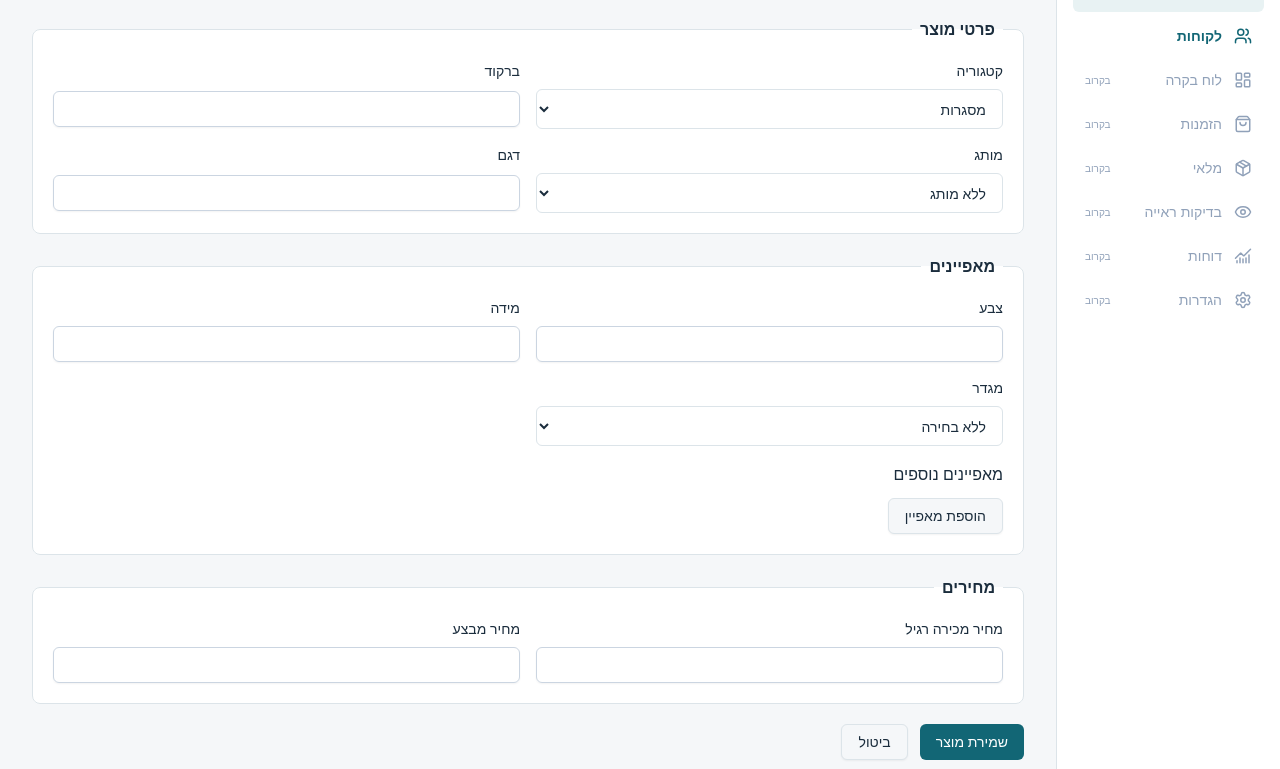
Test: blocks a higher promo and removes VAT from /products/new
The width and height of the screenshot is (1280, 769).
(page scrolled)
Type "100" into the number field labelled "מחיר מכירה רגיל" at [770, 665], box x1=536 y1=647 x2=1003 y2=683
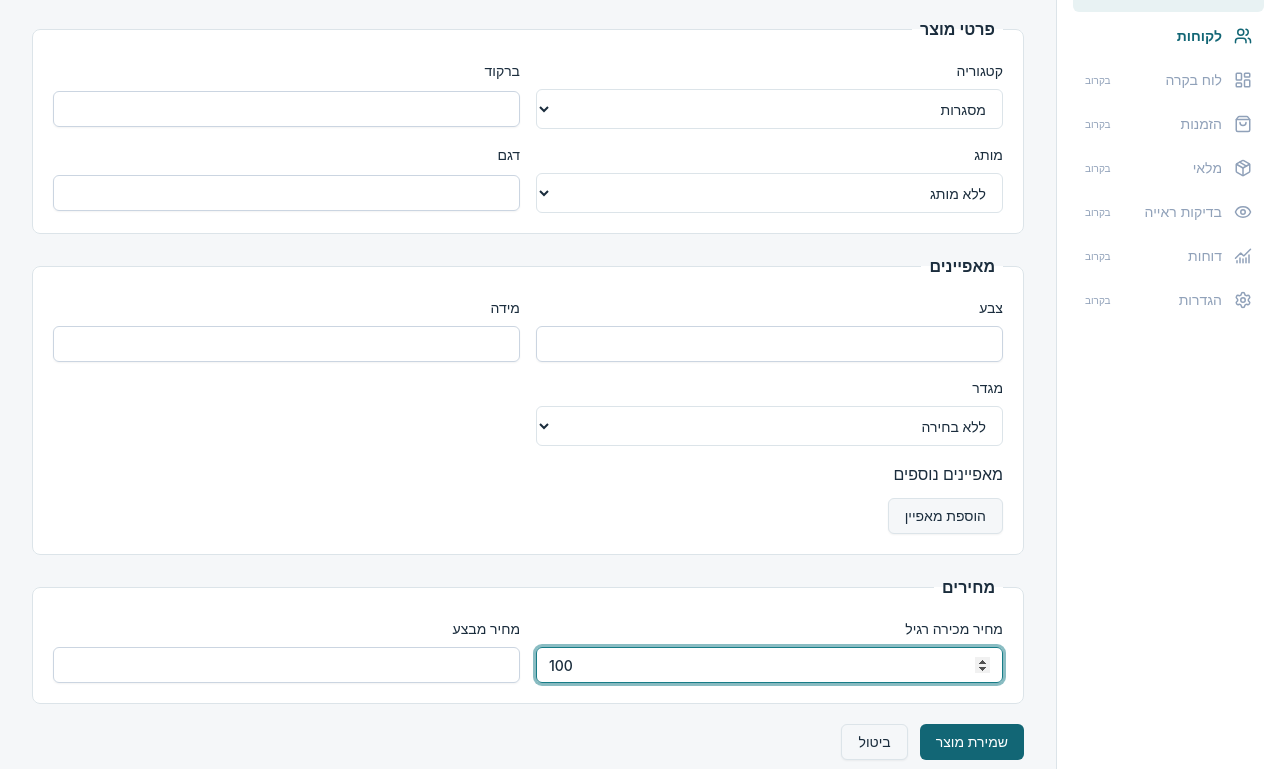
Type "100.01" into the number field labelled "מחיר מבצע" at [286, 665], box x1=53 y1=647 x2=520 y2=683
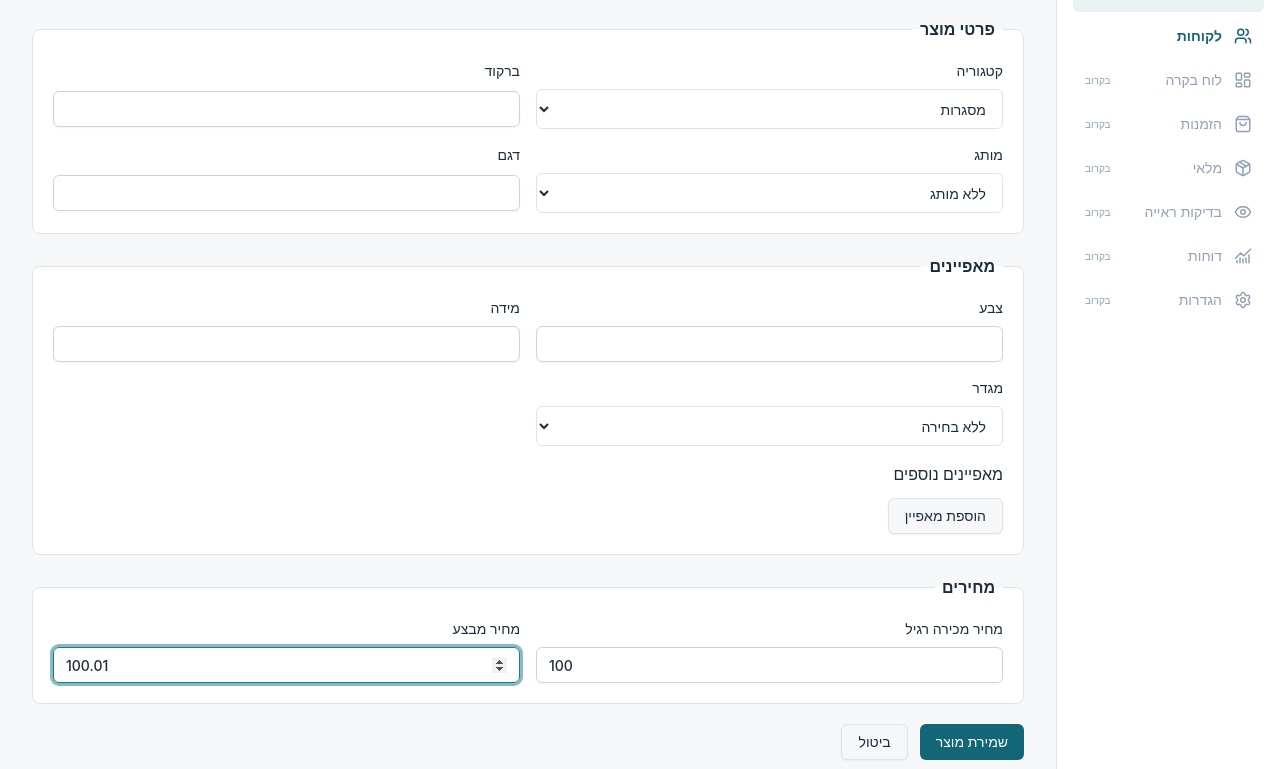
Click the button "שמירת מוצר" at [972, 742], box x1=920 y1=724 x2=1024 y2=760
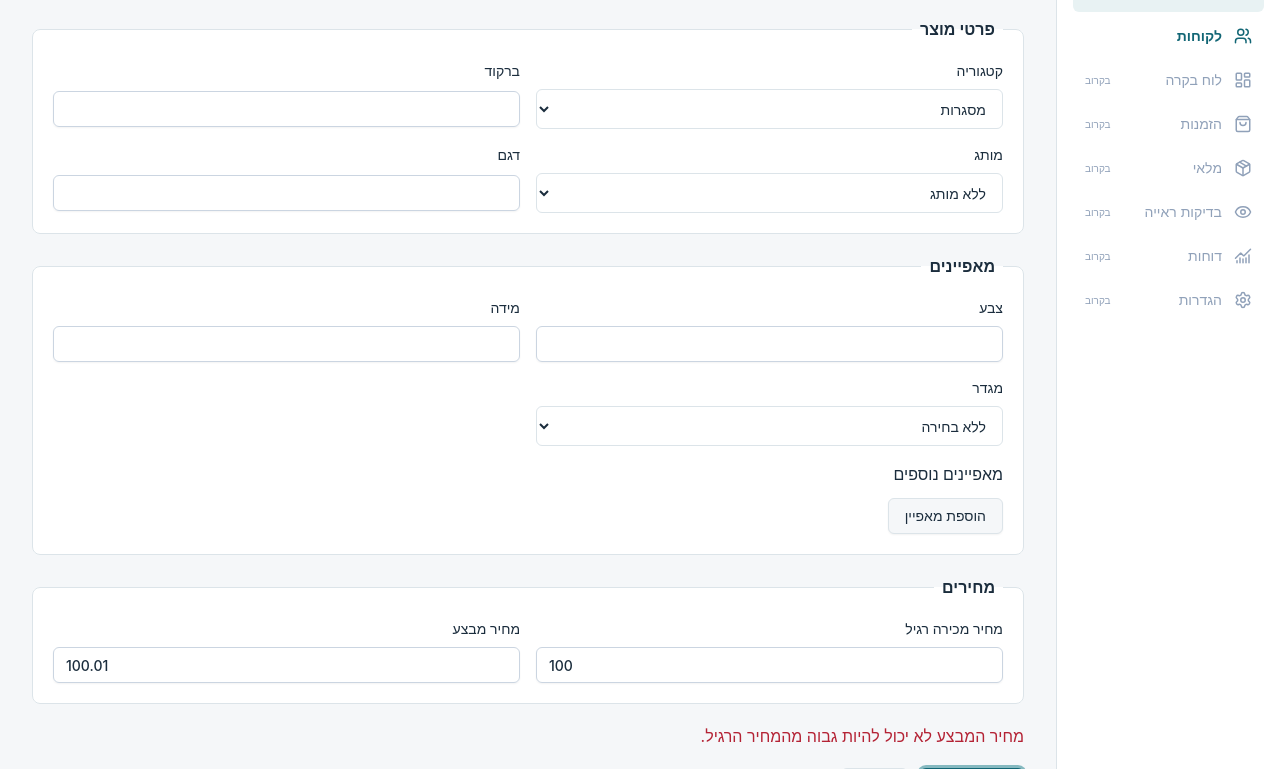
Result: the message reads "מחיר המבצע לא יכול להיות גבוה מהמחיר הרגיל." at x1=701 y1=726 x2=1024 y2=746
